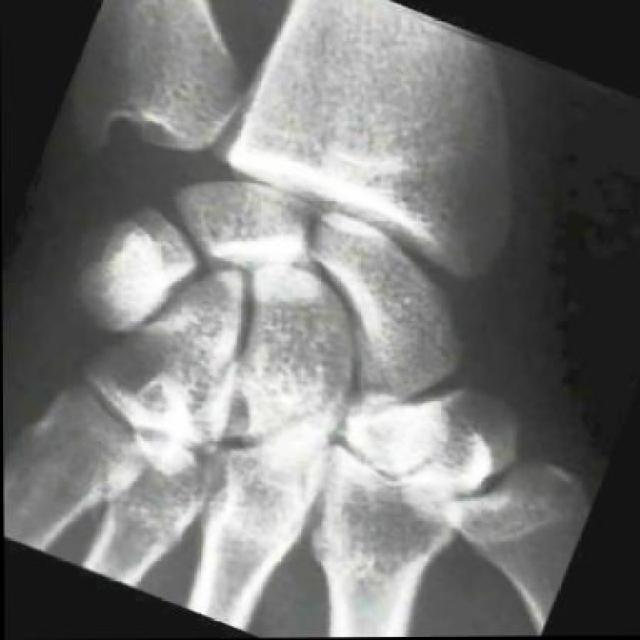Fracture: (370, 277, 472, 369)
